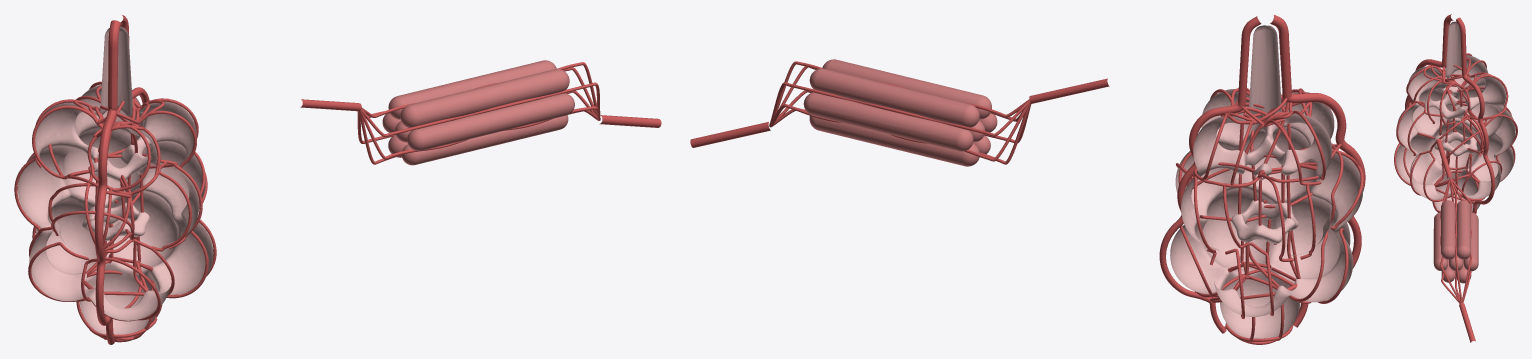
The model's file is micro.glb.
The picture shows the model from 3 angles, left to right: view 1: azimuth 30°, elevation 25°; view 2: azimuth 150°, elevation 25°; view 3: azimuth 270°, elevation 25°; orthographic projection. The views are drawn at different scales.
Parts seen in each view (by area): view 1: alveolar_sac, muscle_fibres, pulm_capillaries, pulm_venule, tissue_capillaries, tissue_venule, tissue_arteriole; view 2: alveolar_sac, muscle_fibres, pulm_capillaries, tissue_capillaries, pulm_arteriole, pulm_venule, tissue_venule, tissue_arteriole; view 3: alveolar_sac, pulm_capillaries, muscle_fibres, pulm_arteriole, tissue_capillaries, pulm_venule, tissue_venule, tissue_arteriole.
Boxes of the visible parts, <box> form: alveolar_sac: <box>17,26,213,337</box>; muscle_fibres: <box>382,60,574,165</box>; pulm_capillaries: <box>14,81,216,342</box>; pulm_venule: <box>94,20,120,344</box>; tissue_capillaries: <box>357,62,600,164</box>; tissue_venule: <box>599,115,661,127</box>; tissue_arteriole: <box>300,99,361,111</box>; alveolar_sac: <box>1170,25,1363,338</box>; muscle_fibres: <box>803,59,997,166</box>; pulm_capillaries: <box>1176,88,1363,344</box>; tissue_capillaries: <box>769,61,1031,164</box>; pulm_arteriole: <box>1159,16,1261,333</box>; pulm_venule: <box>1270,15,1365,327</box>; tissue_venule: <box>690,122,770,147</box>; tissue_arteriole: <box>1029,78,1109,103</box>; alveolar_sac: <box>1396,21,1515,212</box>; pulm_capillaries: <box>1394,53,1517,213</box>; muscle_fibres: <box>1433,200,1478,283</box>; pulm_arteriole: <box>1456,17,1495,213</box>; tissue_capillaries: <box>1440,178,1471,303</box>; pulm_venule: <box>1405,14,1453,109</box>; tissue_venule: <box>1459,303,1475,342</box>; tissue_arteriole: <box>1436,139,1452,178</box>.
Bounding box in the file's own units: 15.94 × 7.67 × 4.27.
